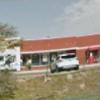cars: (50, 52, 80, 74)
